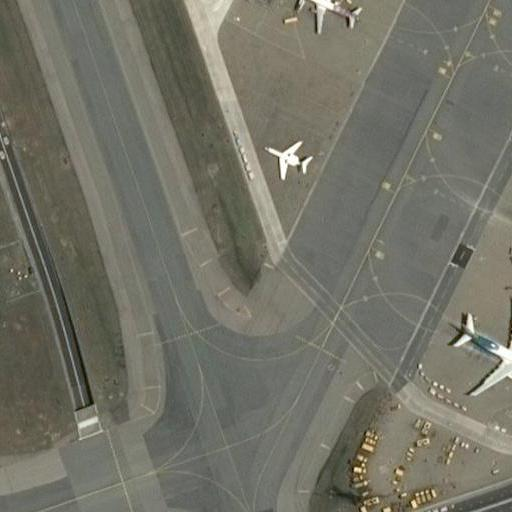Aircraft: (439, 288, 512, 402), (443, 296, 512, 399), (253, 128, 318, 180), (277, 0, 367, 30), (259, 133, 315, 181), (290, 0, 364, 35), (507, 214, 512, 284)
